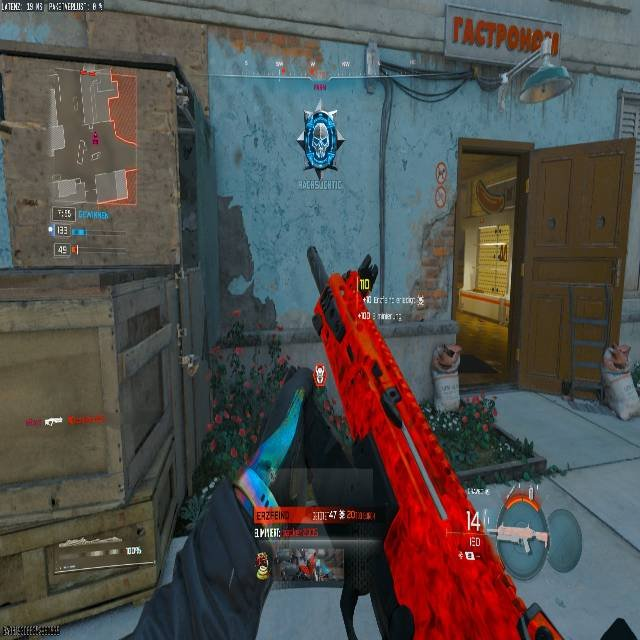player: (298, 109, 342, 176), (354, 257, 378, 308)
